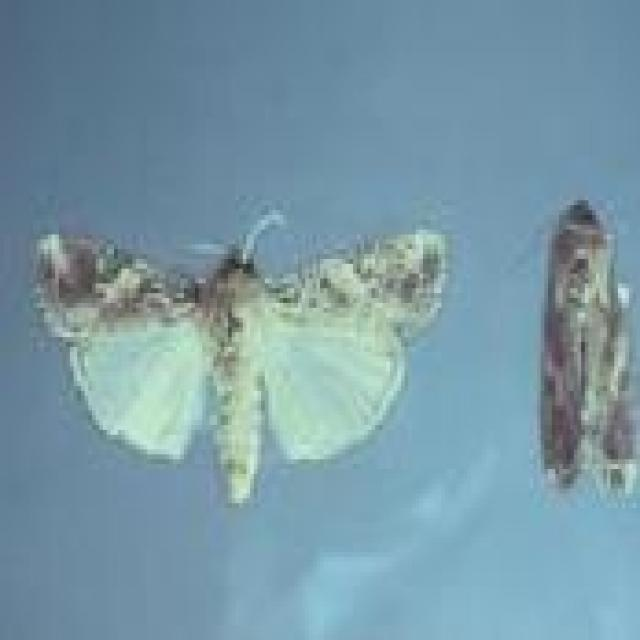BeetArmyWorm-Adult-: (23, 194, 469, 526)
